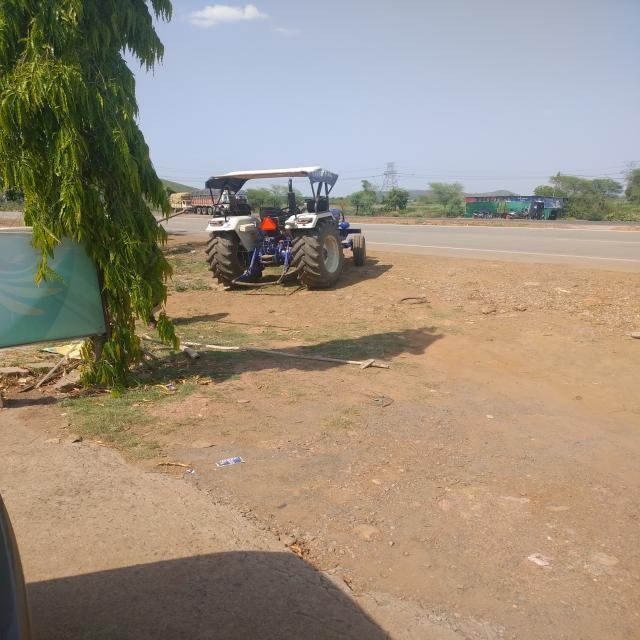tractor_back: (196, 160, 380, 292)
